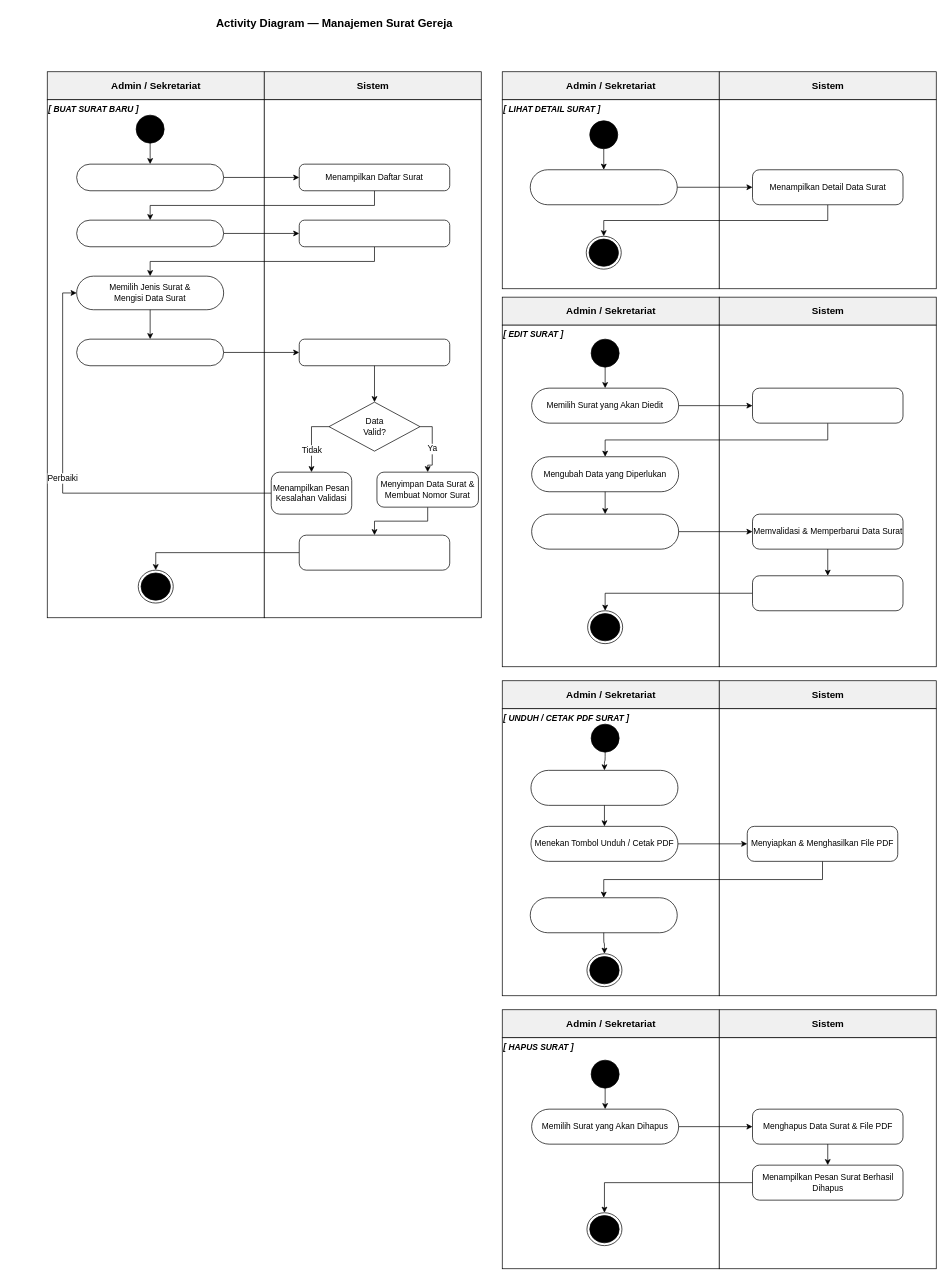
This 949x1281 diagram has some shape labels left out. Each missing label, with the centre of its shape:
"Membuka Menu Kelola Surat" goes at [150,177].
"Memilih Surat yang Akan Dicetak" goes at [604,787].
"Memilih Surat yang Akan Dilihat" goes at [603,187].
"Memvalidasi Data Surat" goes at [374,352].
"Menampilkan Form Edit Surat dengan Data Lama" goes at [827,405].
"Menampilkan Form Pembuatan Surat" goes at [374,233].
"Menampilkan Pesan Surat Berhasil Dibuat" goes at [374,552].
"Menampilkan Pesan Surat Berhasil Diperbarui" goes at [827,593].
"Menekan Tombol Buat Surat Baru" goes at [150,233].
"Menekan Tombol Simpan" goes at [150,352].
"Menekan Tombol Simpan Perubahan" goes at [605,531].
"Mengunduh File PDF Surat" goes at [603,915].
